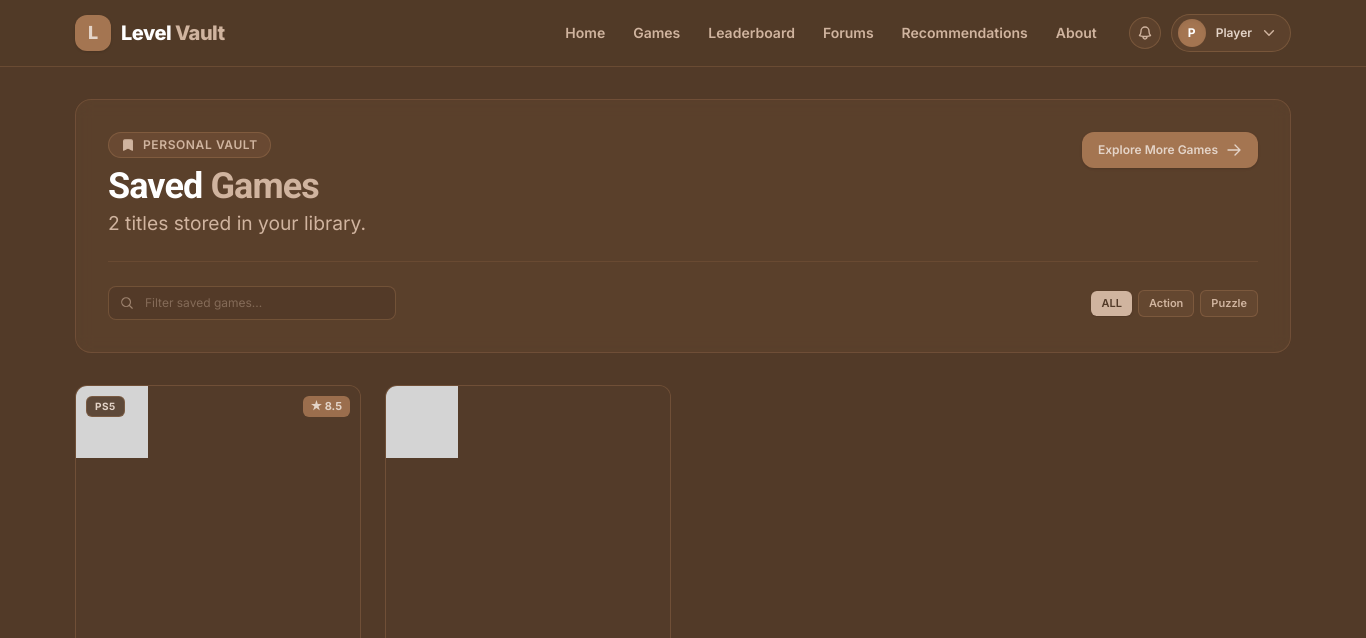
Test case: FavoritesPage › shows a no-match state and resets filters
Type "zzz-nomatch" into the field with placeholder "Filter saved games..." at (252, 303), box [108,286,396,320]
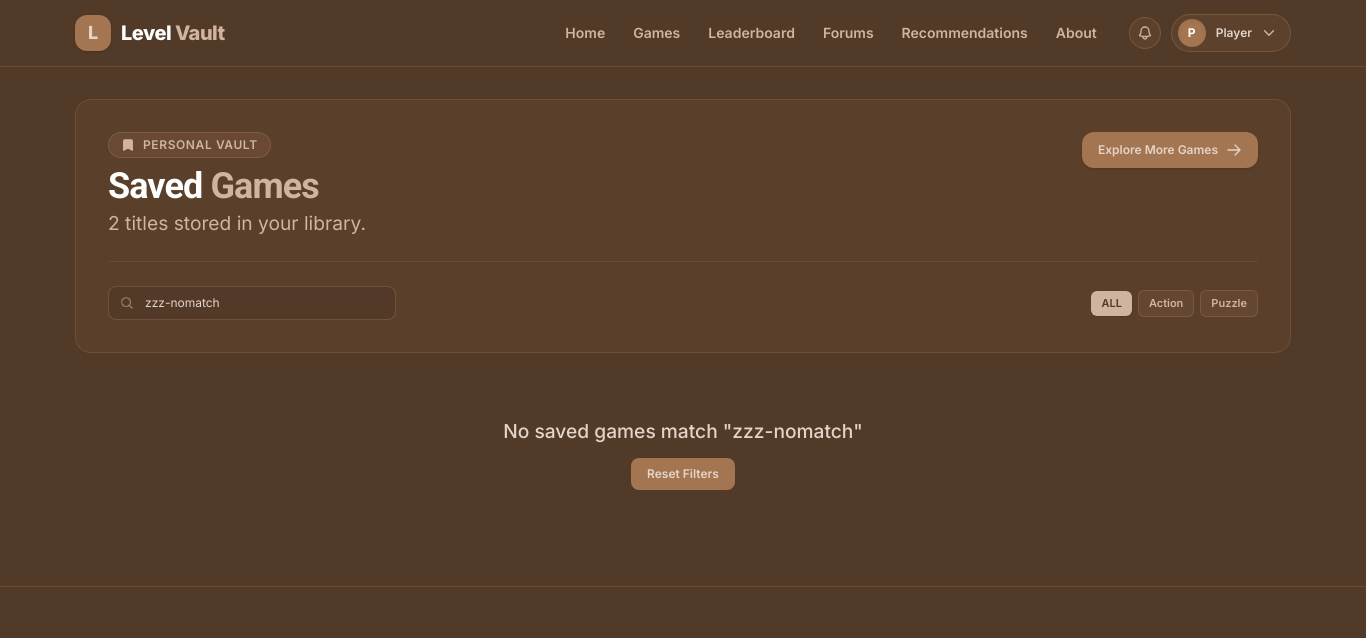
Check: the text "No saved games match \"zzz-nomatch\"" is shown, box [503,417,863,446]
Click the button "Reset Filters" at (683, 474), box [631,458,735,490]
(page scrolled)
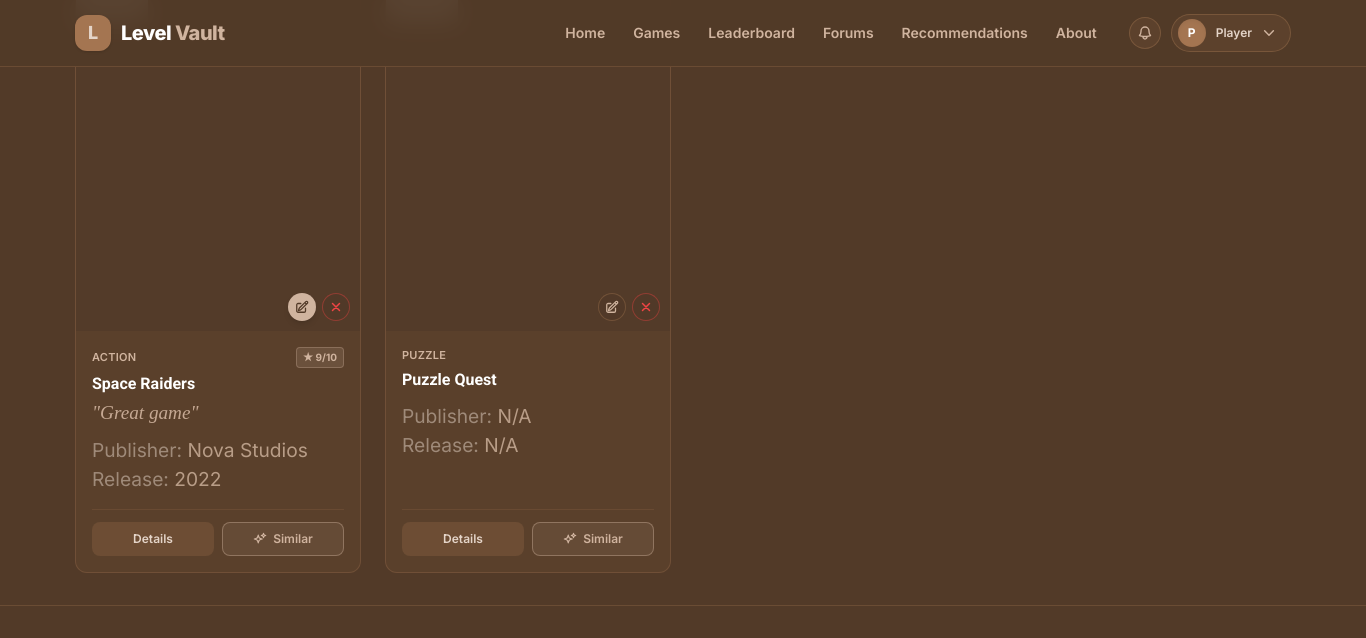
Check: the heading "Space Raiders" is shown, box [92,374,195,393]
